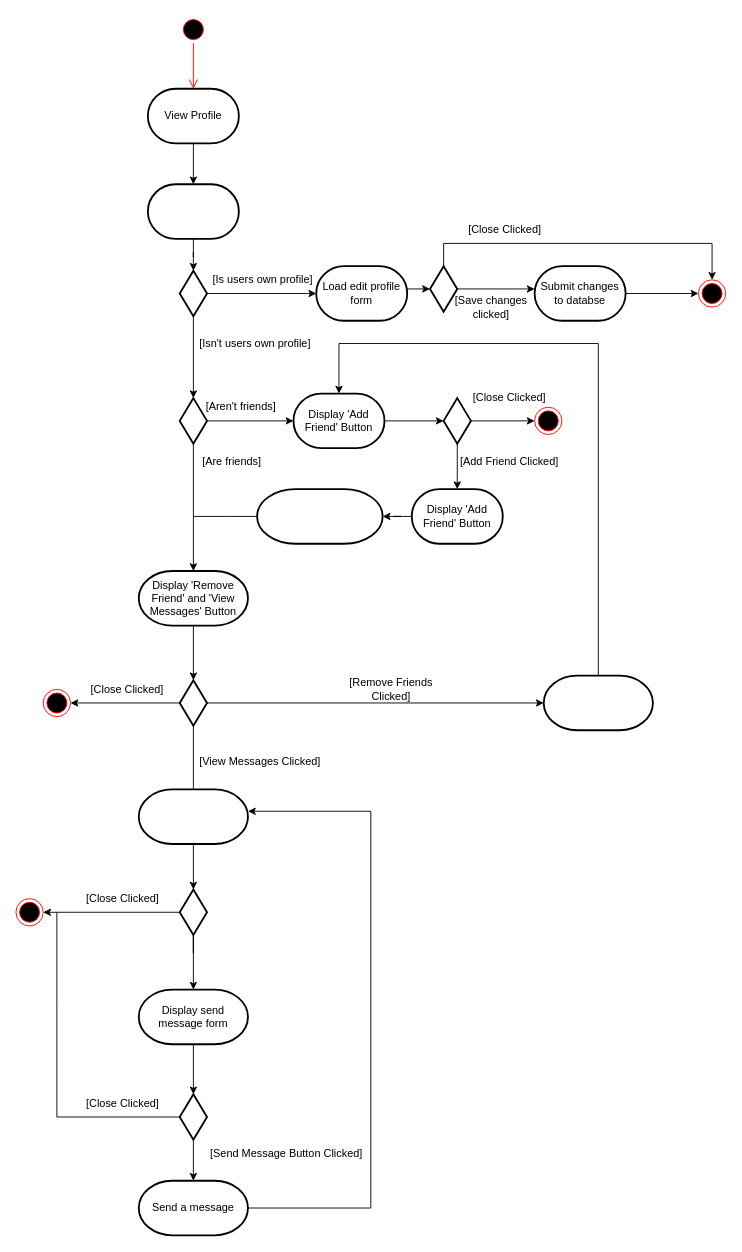
The diagram is 742 pixels wide and 1252 high, and some of its shapes have lost their labels. Each missing label, with the centre of its shape:
Create Friendship in database and remove 'Add Friend' Button: the point at 319,516
Display messages between the users: the point at 192,816
Fetch profile data: the point at 193,211
Remove Friendship from databse and remove buttons: the point at 597,702
